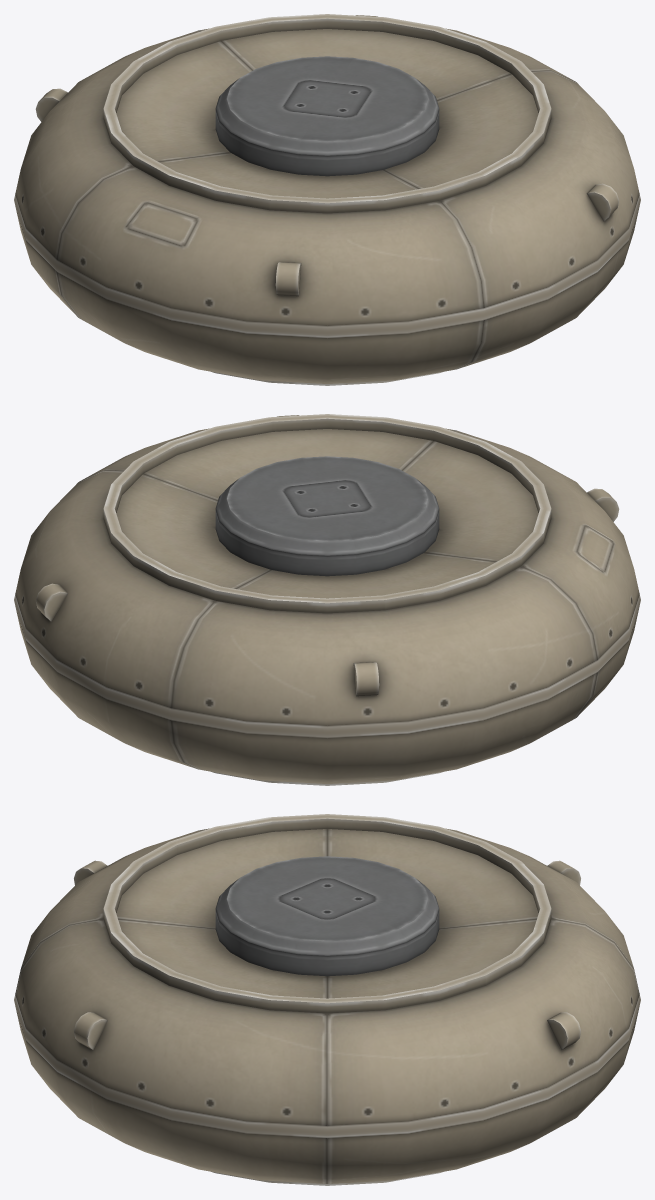
The model's file is Ara_Avionics_1.obj.
3 views of the same model, one above another, from view 1: azimuth 30°, elevation 25°; view 2: azimuth 150°, elevation 25°; view 3: azimuth 270°, elevation 25° (orthographic).
Parts seen in each view (by area): view 1: Ara_Avionics_1; view 2: Ara_Avionics_1; view 3: Ara_Avionics_1.
Boxes of the visible parts, bbox=[...] form: Ara_Avionics_1: bbox=[14, 14, 640, 385]; Ara_Avionics_1: bbox=[14, 414, 640, 785]; Ara_Avionics_1: bbox=[14, 814, 640, 1185].
Bounding box in the file's own units: 1.75 × 0.5925 × 1.75.
